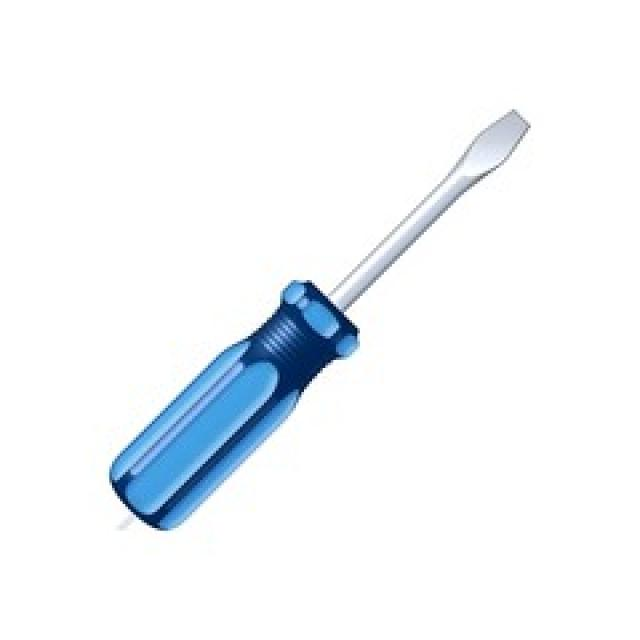screwdriver: (107, 107, 530, 530)
